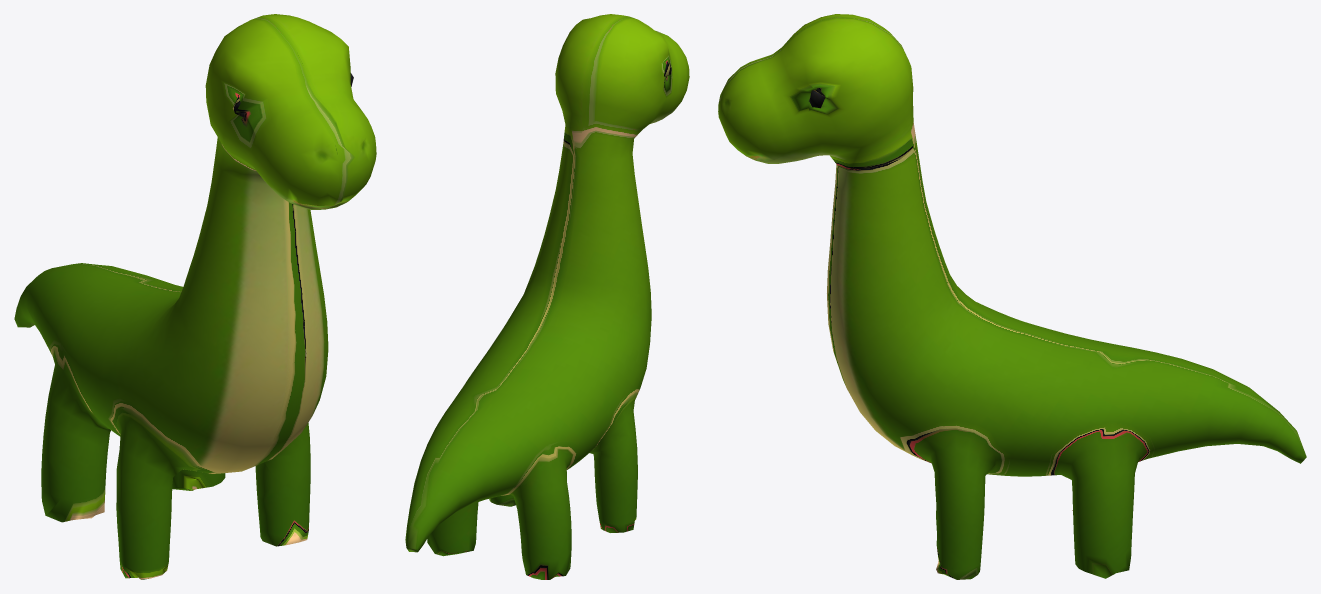
File: dinosaur.glb
3 views of the same model, side by side, from view 1: azimuth 30°, elevation 25°; view 2: azimuth 150°, elevation 25°; view 3: azimuth 270°, elevation 25° (orthographic). The views are drawn at different scales.
Bounding box in the file's own units: 0.3299 × 0.9783 × 1.
Materials: 1 (1 with a texture image).
